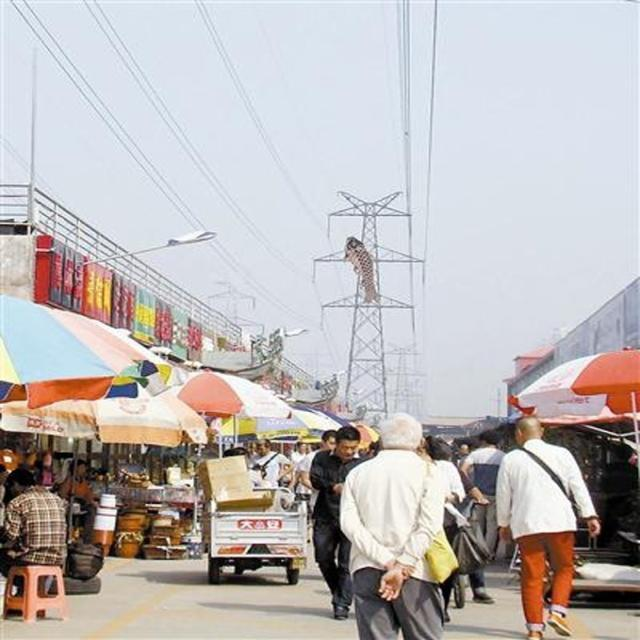non-critical vegetation: (297, 178, 437, 410)
